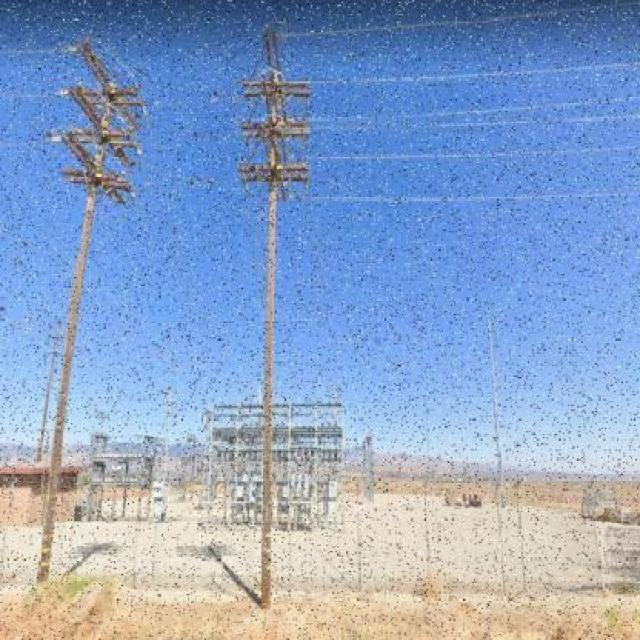pole: (194, 21, 372, 628), (14, 18, 148, 612)
